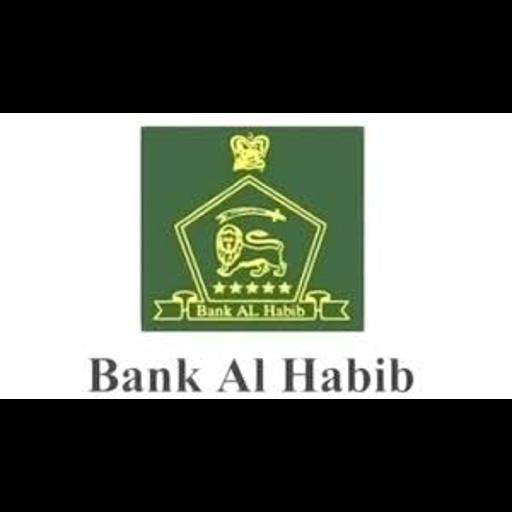Bank Al Habib: (0, 113, 512, 399)
